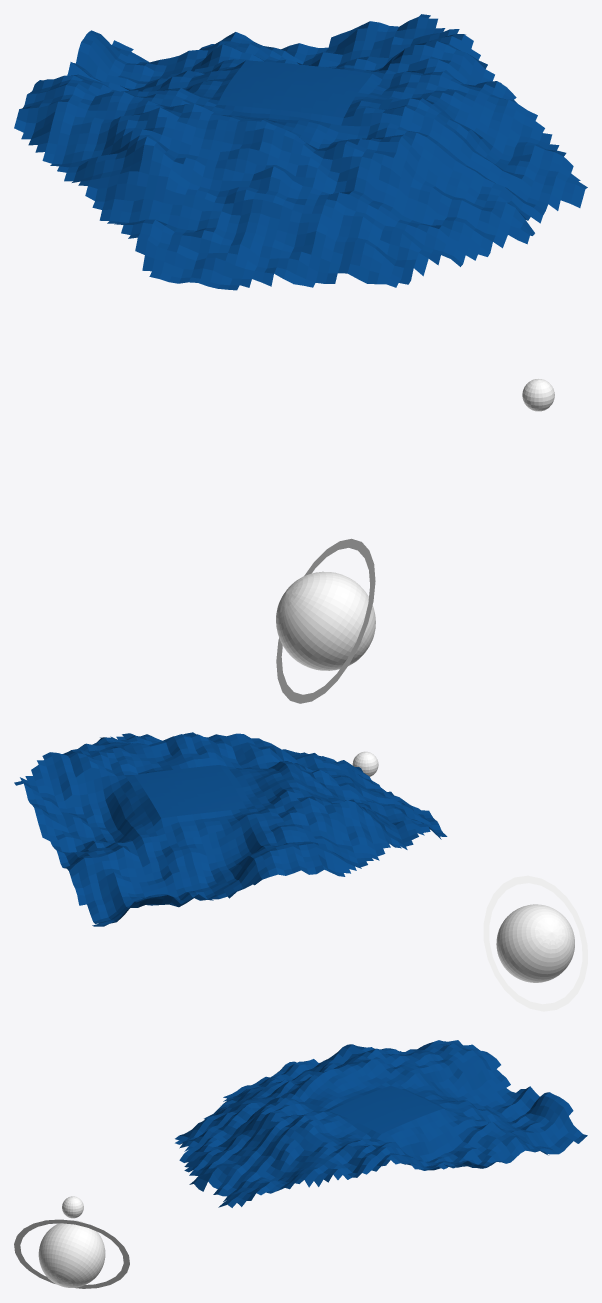
The model's file is comet-3.glb.
3 renders of one model, top to bottom at view 1: azimuth 30°, elevation 25°; view 2: azimuth 150°, elevation 25°; view 3: azimuth 270°, elevation 25°, orthographic. The views are drawn at different scales.
Visible parts, largest first — view 1: comet, planet, ring; view 2: comet, planet, ring, star; view 3: comet, planet, ring, star.
Part boxes in pixels (box(x1,y1,x2,y2)): comet: box(14, 14, 587, 290); planet: box(276, 571, 375, 670); ring: box(276, 538, 375, 703); comet: box(14, 732, 447, 926); planet: box(496, 904, 574, 982); ring: box(483, 875, 587, 1011); star: box(352, 751, 378, 776); comet: box(175, 1040, 587, 1207); planet: box(38, 1220, 105, 1287); ring: box(14, 1219, 129, 1288); star: box(62, 1196, 83, 1218).
Bounding box in the file's own units: 0.7587 × 0.6888 × 1.32.
2 materials, 1 textured.
